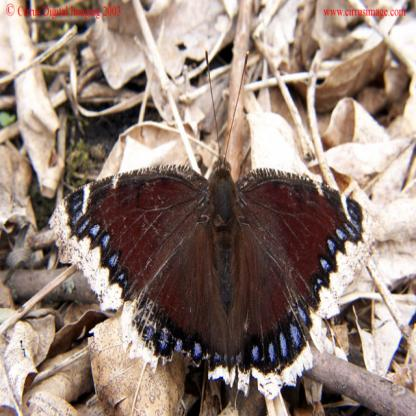Mourning Cloak: (55, 109, 378, 403)
